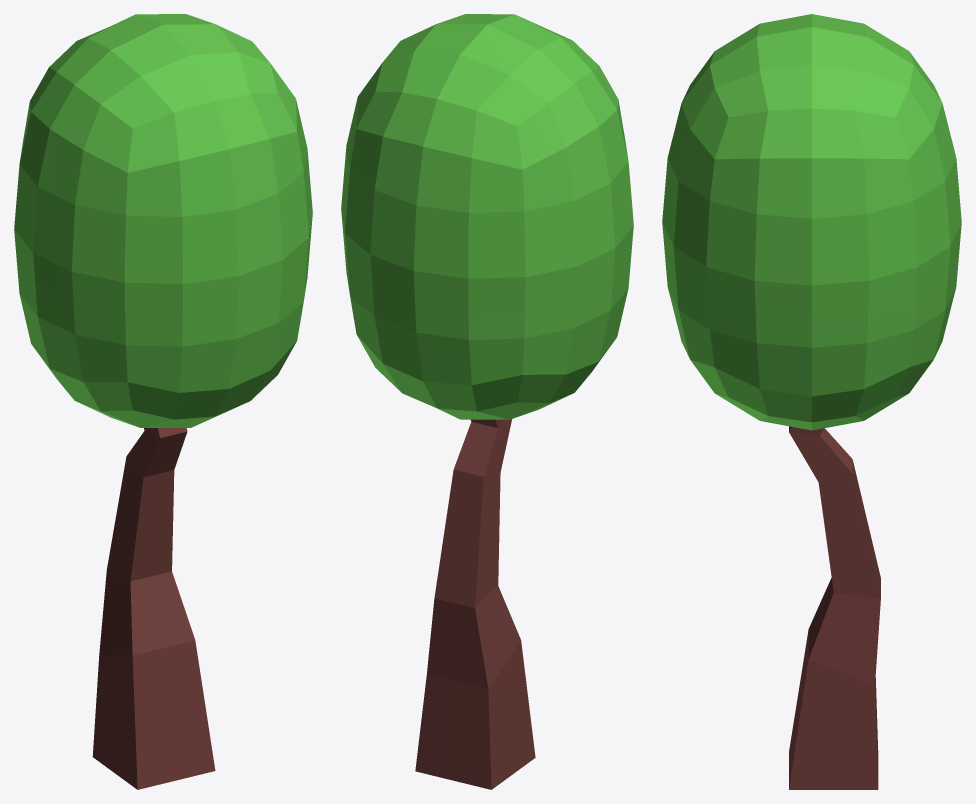
File: TreePackage.fbx_Tree_008.fbx
3 views of the same model, side by side, from view 1: azimuth 30°, elevation 25°; view 2: azimuth 150°, elevation 25°; view 3: azimuth 270°, elevation 25° (orthographic). The views are drawn at different scales.
Visible parts, largest first — view 1: Cube.011, Circle.002; view 2: Cube.011, Circle.002; view 3: Cube.011, Circle.002.
Part boxes in pixels (x1,y1,x2,y2): Cube.011: (14, 14, 312, 427); Circle.002: (92, 428, 215, 789); Cube.011: (341, 14, 633, 419); Circle.002: (415, 419, 535, 789); Cube.011: (662, 14, 961, 430); Circle.002: (789, 426, 880, 789).
Bounding box in the file's own units: 263 × 719 × 263.
